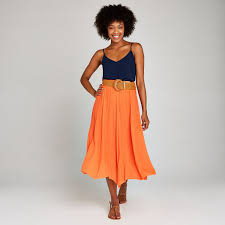C_skirt: (69, 79, 166, 187)
C_tank top: (95, 44, 147, 80)
